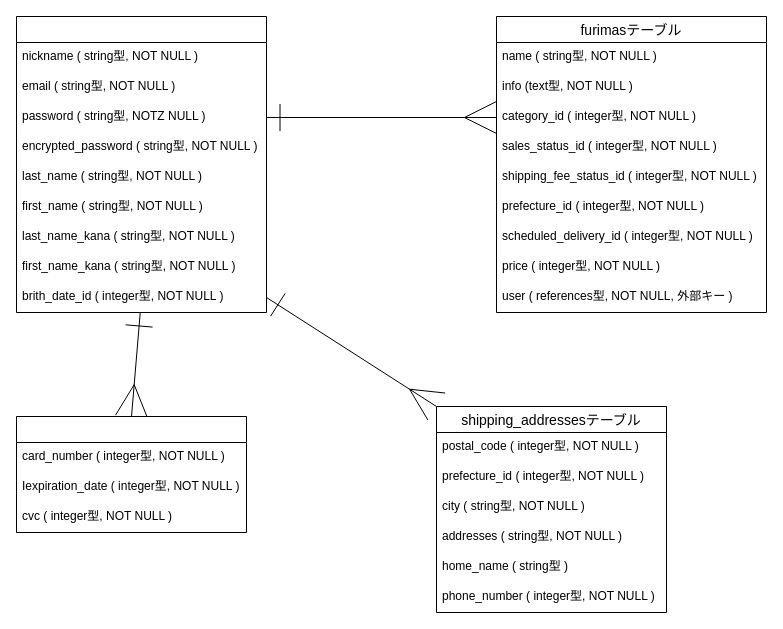
This 783x629 diagram has some shape labels left out. Each missing label, with the box of its shape:
cardsテーブル: (16, 416, 246, 532)
usersテーブル: (16, 16, 266, 312)
